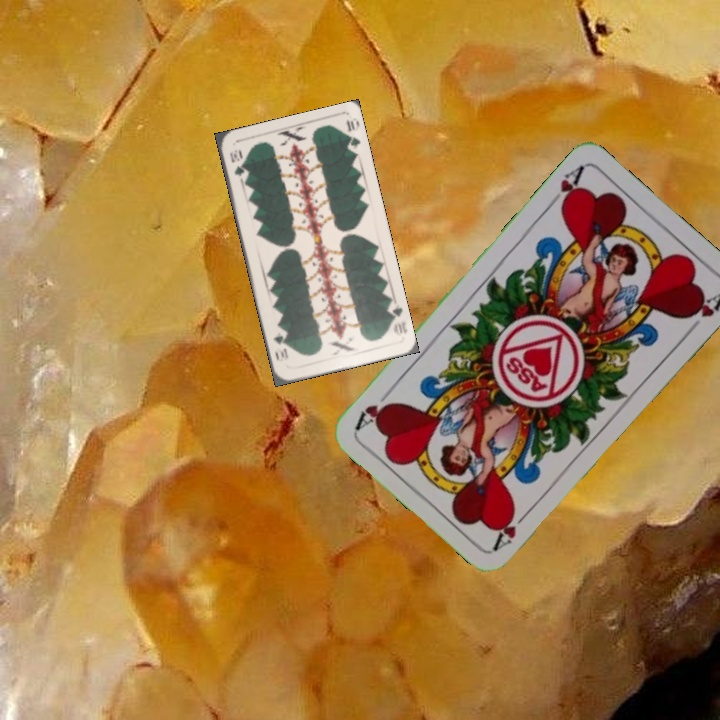G10: (384, 300, 410, 339), (226, 146, 247, 178)
HA: (543, 162, 586, 215), (489, 504, 534, 553)
